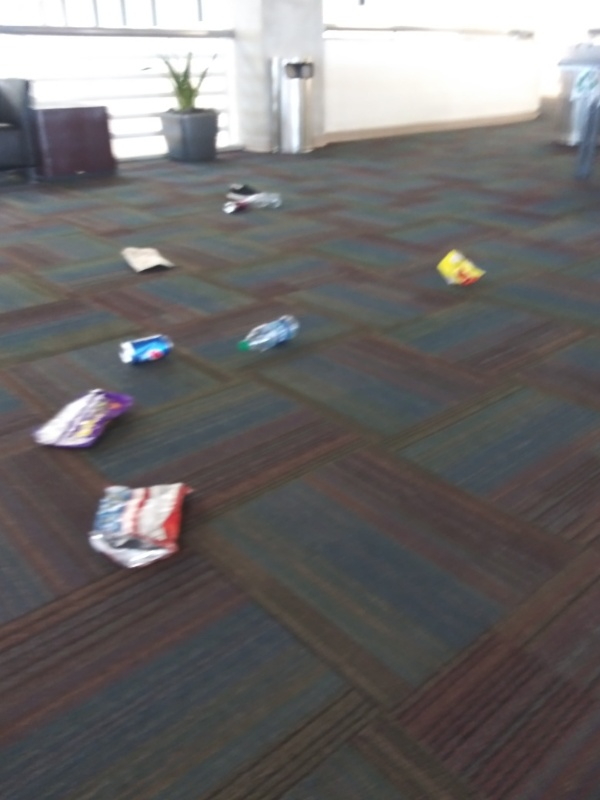bag: (80, 479, 196, 578), (26, 382, 139, 454), (431, 246, 491, 291), (114, 243, 178, 278)
bottle: (228, 312, 307, 354), (239, 188, 291, 214)
can: (114, 329, 179, 368), (217, 201, 243, 216)
